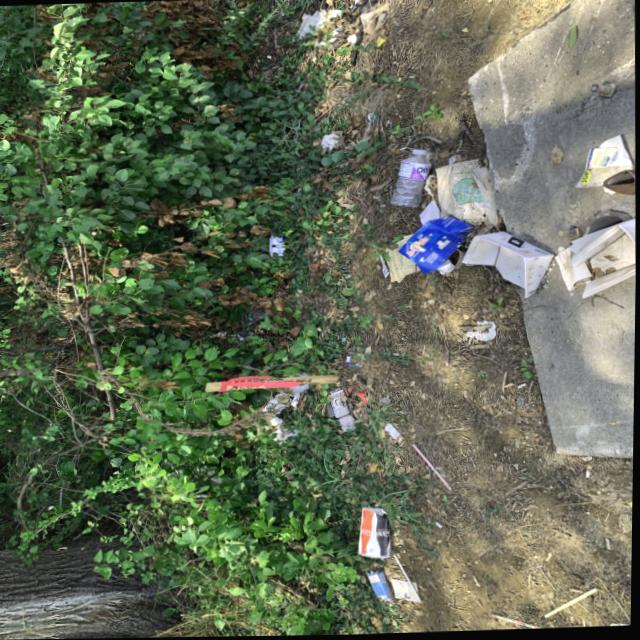Cardboard: (405, 216, 482, 273)
Paper: (560, 219, 637, 296), (429, 156, 506, 227), (409, 442, 456, 495), (357, 507, 393, 560), (324, 387, 353, 431), (461, 320, 504, 345), (367, 573, 396, 605), (392, 579, 422, 608), (315, 129, 340, 153), (385, 422, 406, 448)
Plastic: (569, 135, 636, 201), (388, 143, 429, 213), (388, 549, 430, 605), (542, 587, 607, 621), (488, 612, 567, 631), (237, 310, 273, 325), (268, 238, 287, 256)
Trash -everything else-: (460, 222, 557, 307)
